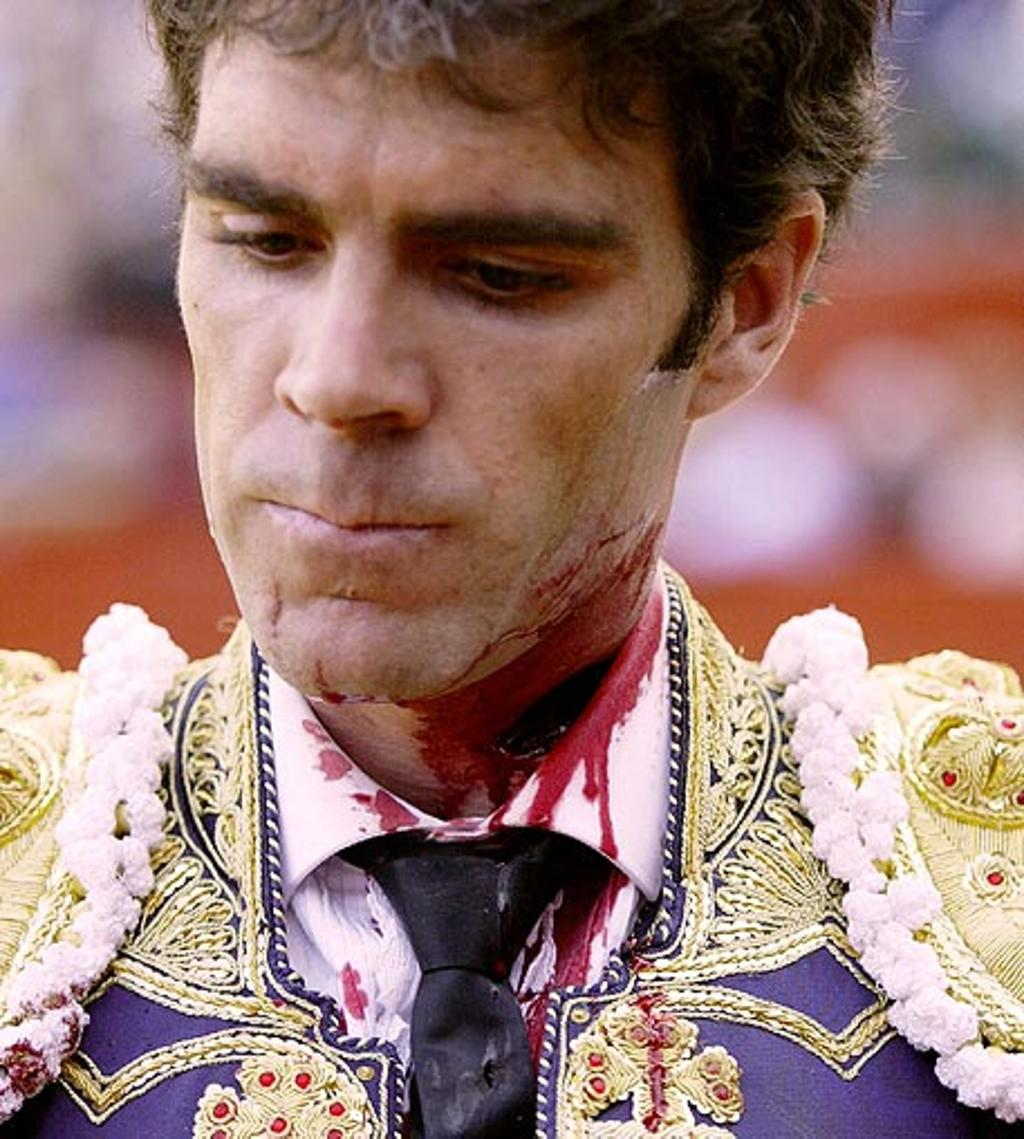face: (171, 11, 711, 695)
